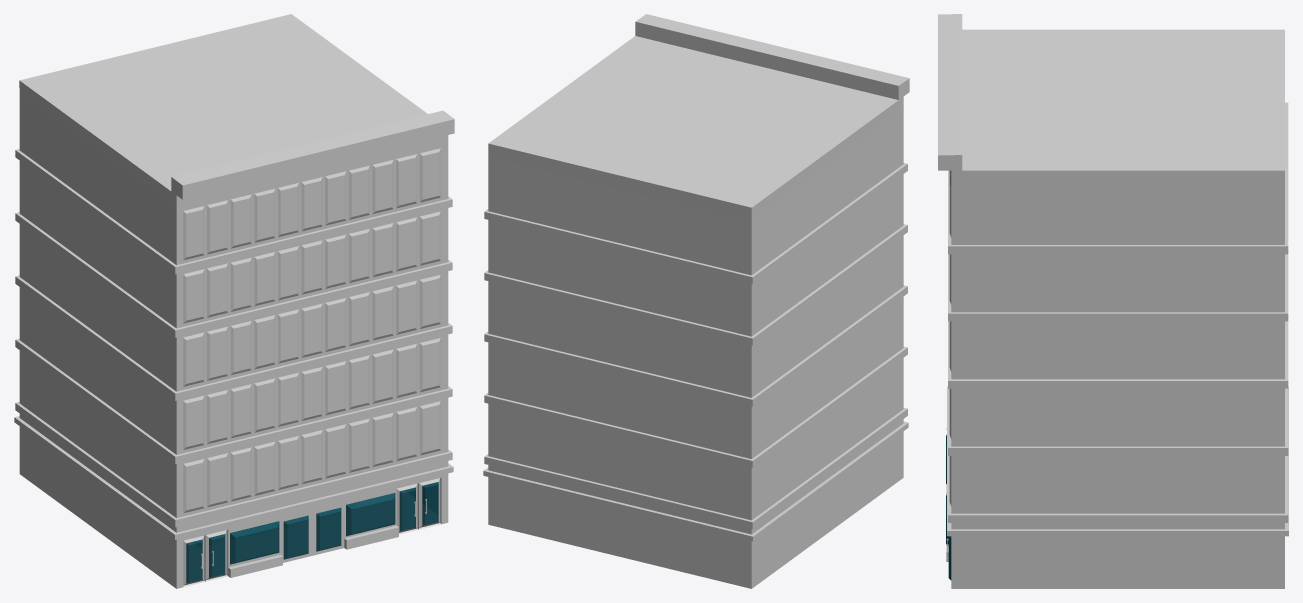
Rendered from building_office_02_small.fbx.
The picture shows the model from 3 angles, left to right: view 1: azimuth 30°, elevation 25°; view 2: azimuth 150°, elevation 25°; view 3: azimuth 270°, elevation 25°; orthographic projection. The views are drawn at different scales.
Parts seen in each view (by area): view 1: building_office_02_small, building_office_02_small_glass; view 2: building_office_02_small; view 3: building_office_02_small.
Part boxes in pixels (x1,y1,x2,y2): building_office_02_small: (14,14,454,588); building_office_02_small_glass: (186,482,438,583); building_office_02_small: (483,14,909,588); building_office_02_small: (938,14,1288,588).
Size of the model in its own units: 1844 by 2583 by 1893.
